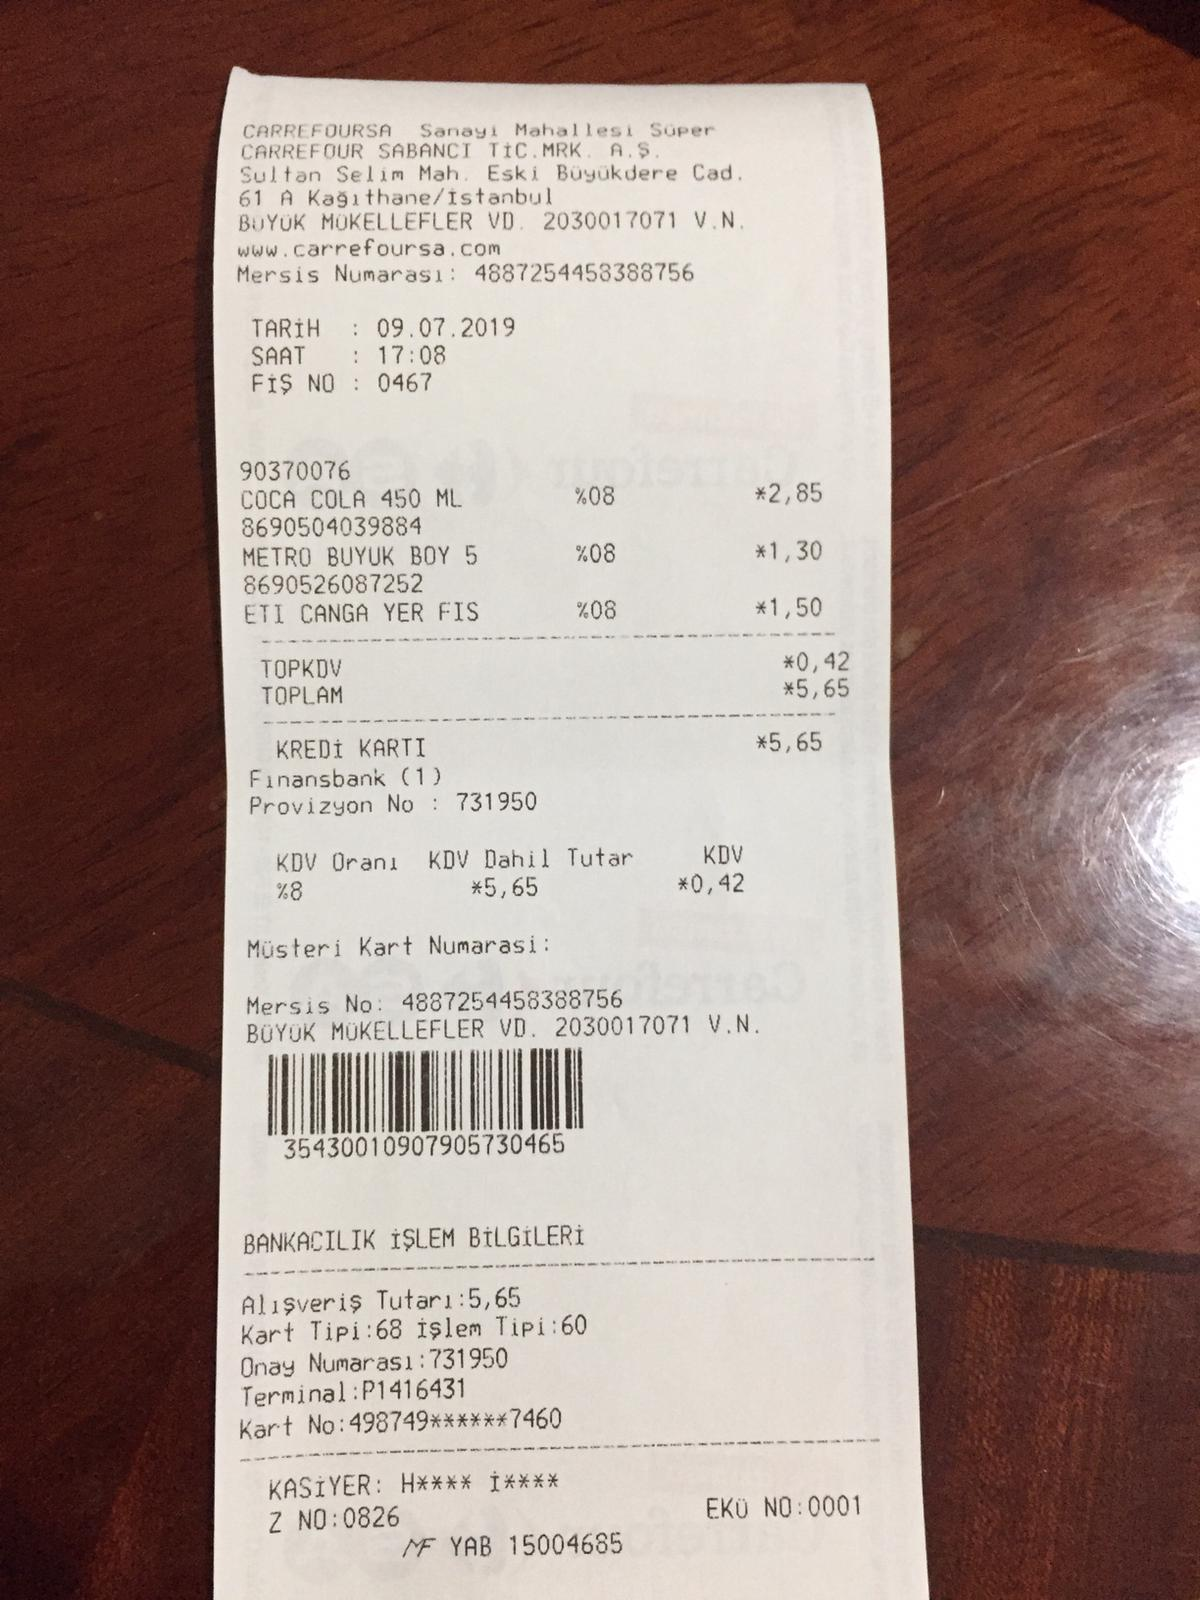total: (258, 676, 863, 710)
